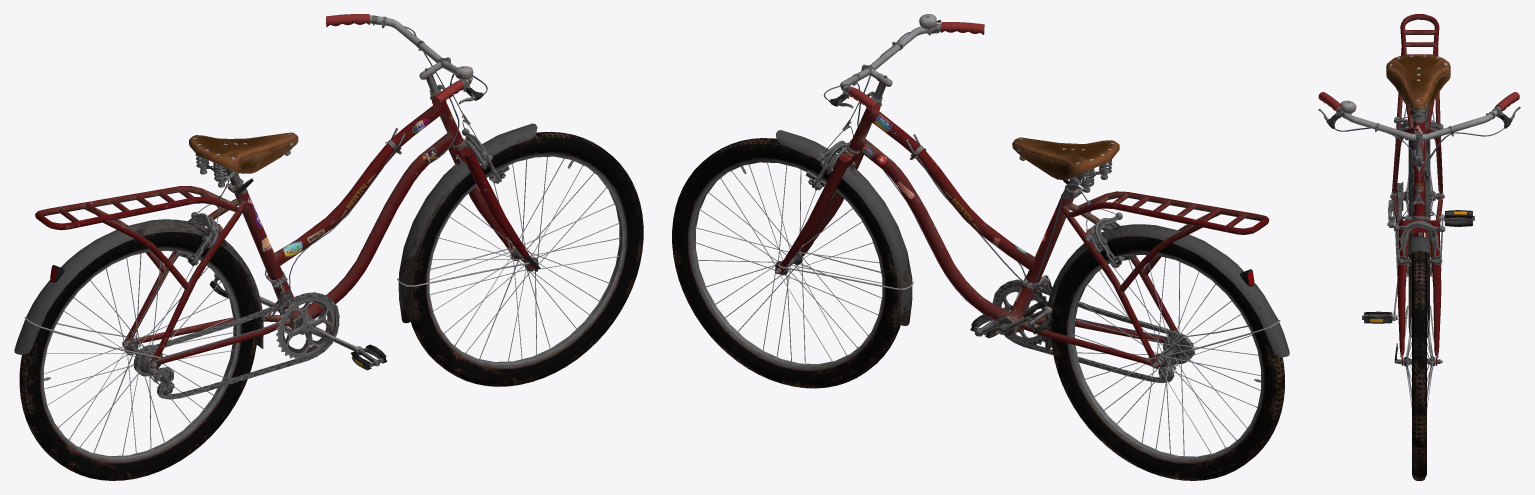
Rendered from vintage_bicycle.glb.
3 renders of one model, left to right at view 1: azimuth 30°, elevation 25°; view 2: azimuth 150°, elevation 25°; view 3: azimuth 270°, elevation 25°, orthographic. The views are drawn at different scales.
Parts seen in each view (by area): view 1: rama_low; view 2: rama_low; view 3: rama_low.
Boxes of the visible parts, bbox=[...] form: rama_low: bbox=[14, 14, 643, 480]; rama_low: bbox=[672, 14, 1289, 480]; rama_low: bbox=[1318, 14, 1520, 480].
Bounding box in the file's own units: 906 × 511 × 290.
Materials: 7 (7 with a texture image).
